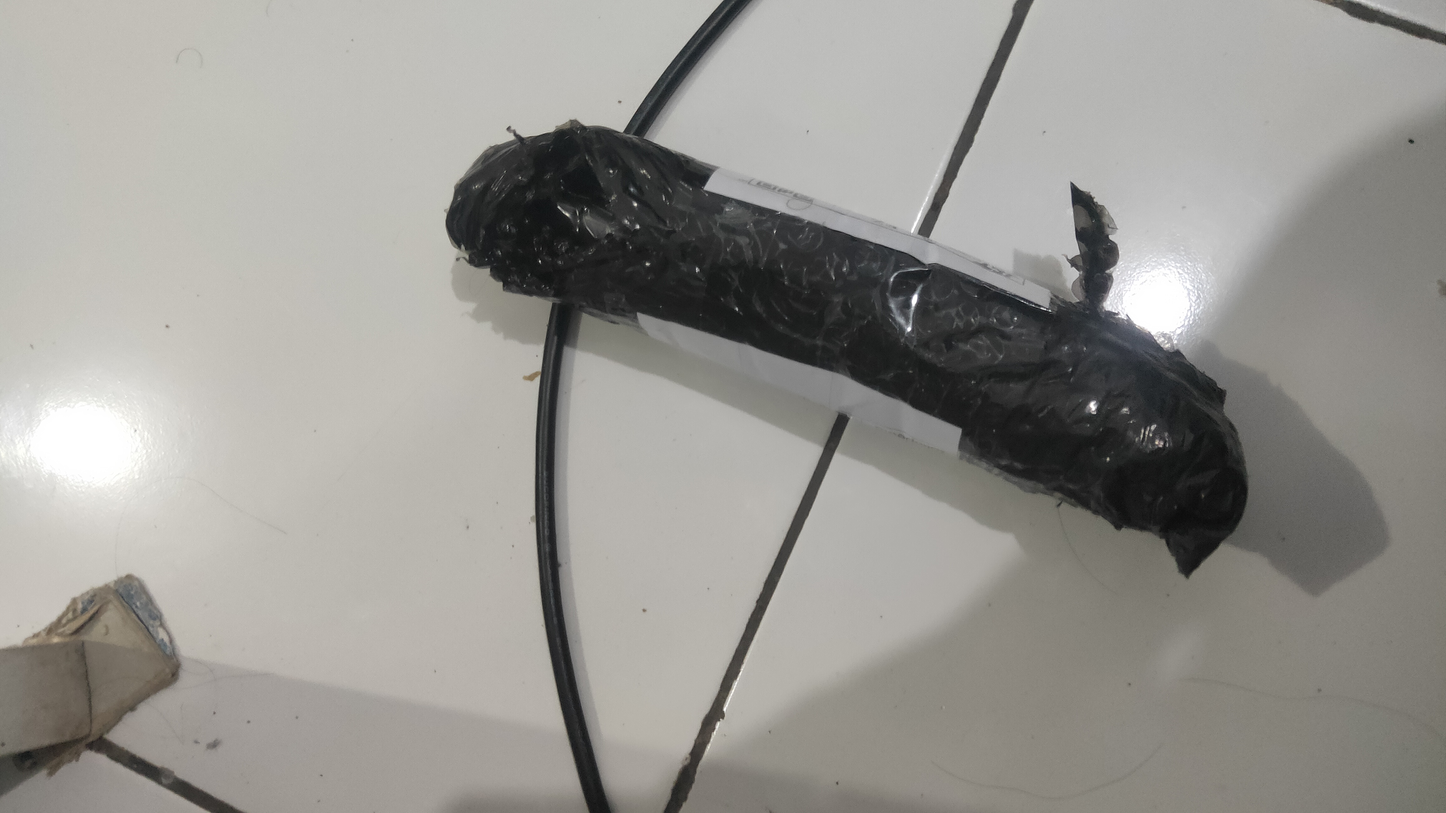damaged package: (492, 152, 654, 284)
undamaged: (442, 122, 1255, 579)
